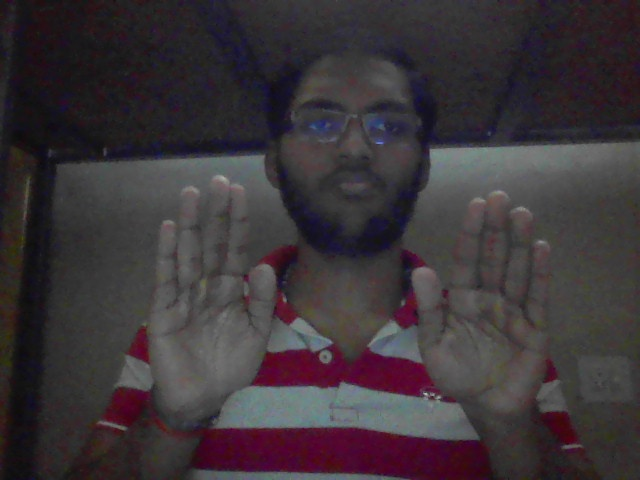God_Bless_You: (148, 170, 566, 405)
